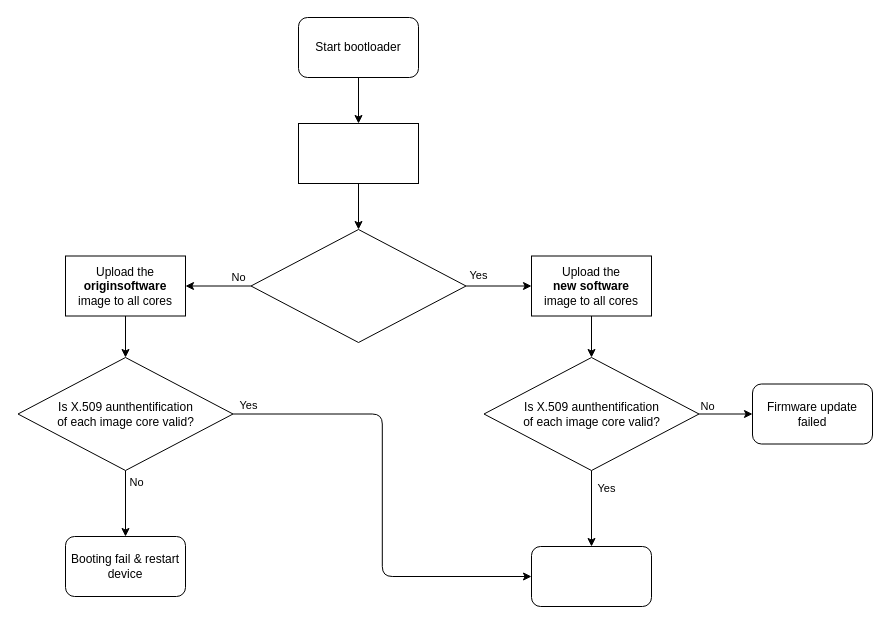
This 890x624 diagram has some shape labels left out. The centre of each missing label's shape, as x and y in pixels:
Config system and resources: the point at 358,153
Is status != 0? (status is not equal to 0): the point at 358,285
Reboot all cores with loaded images: the point at 591,576
